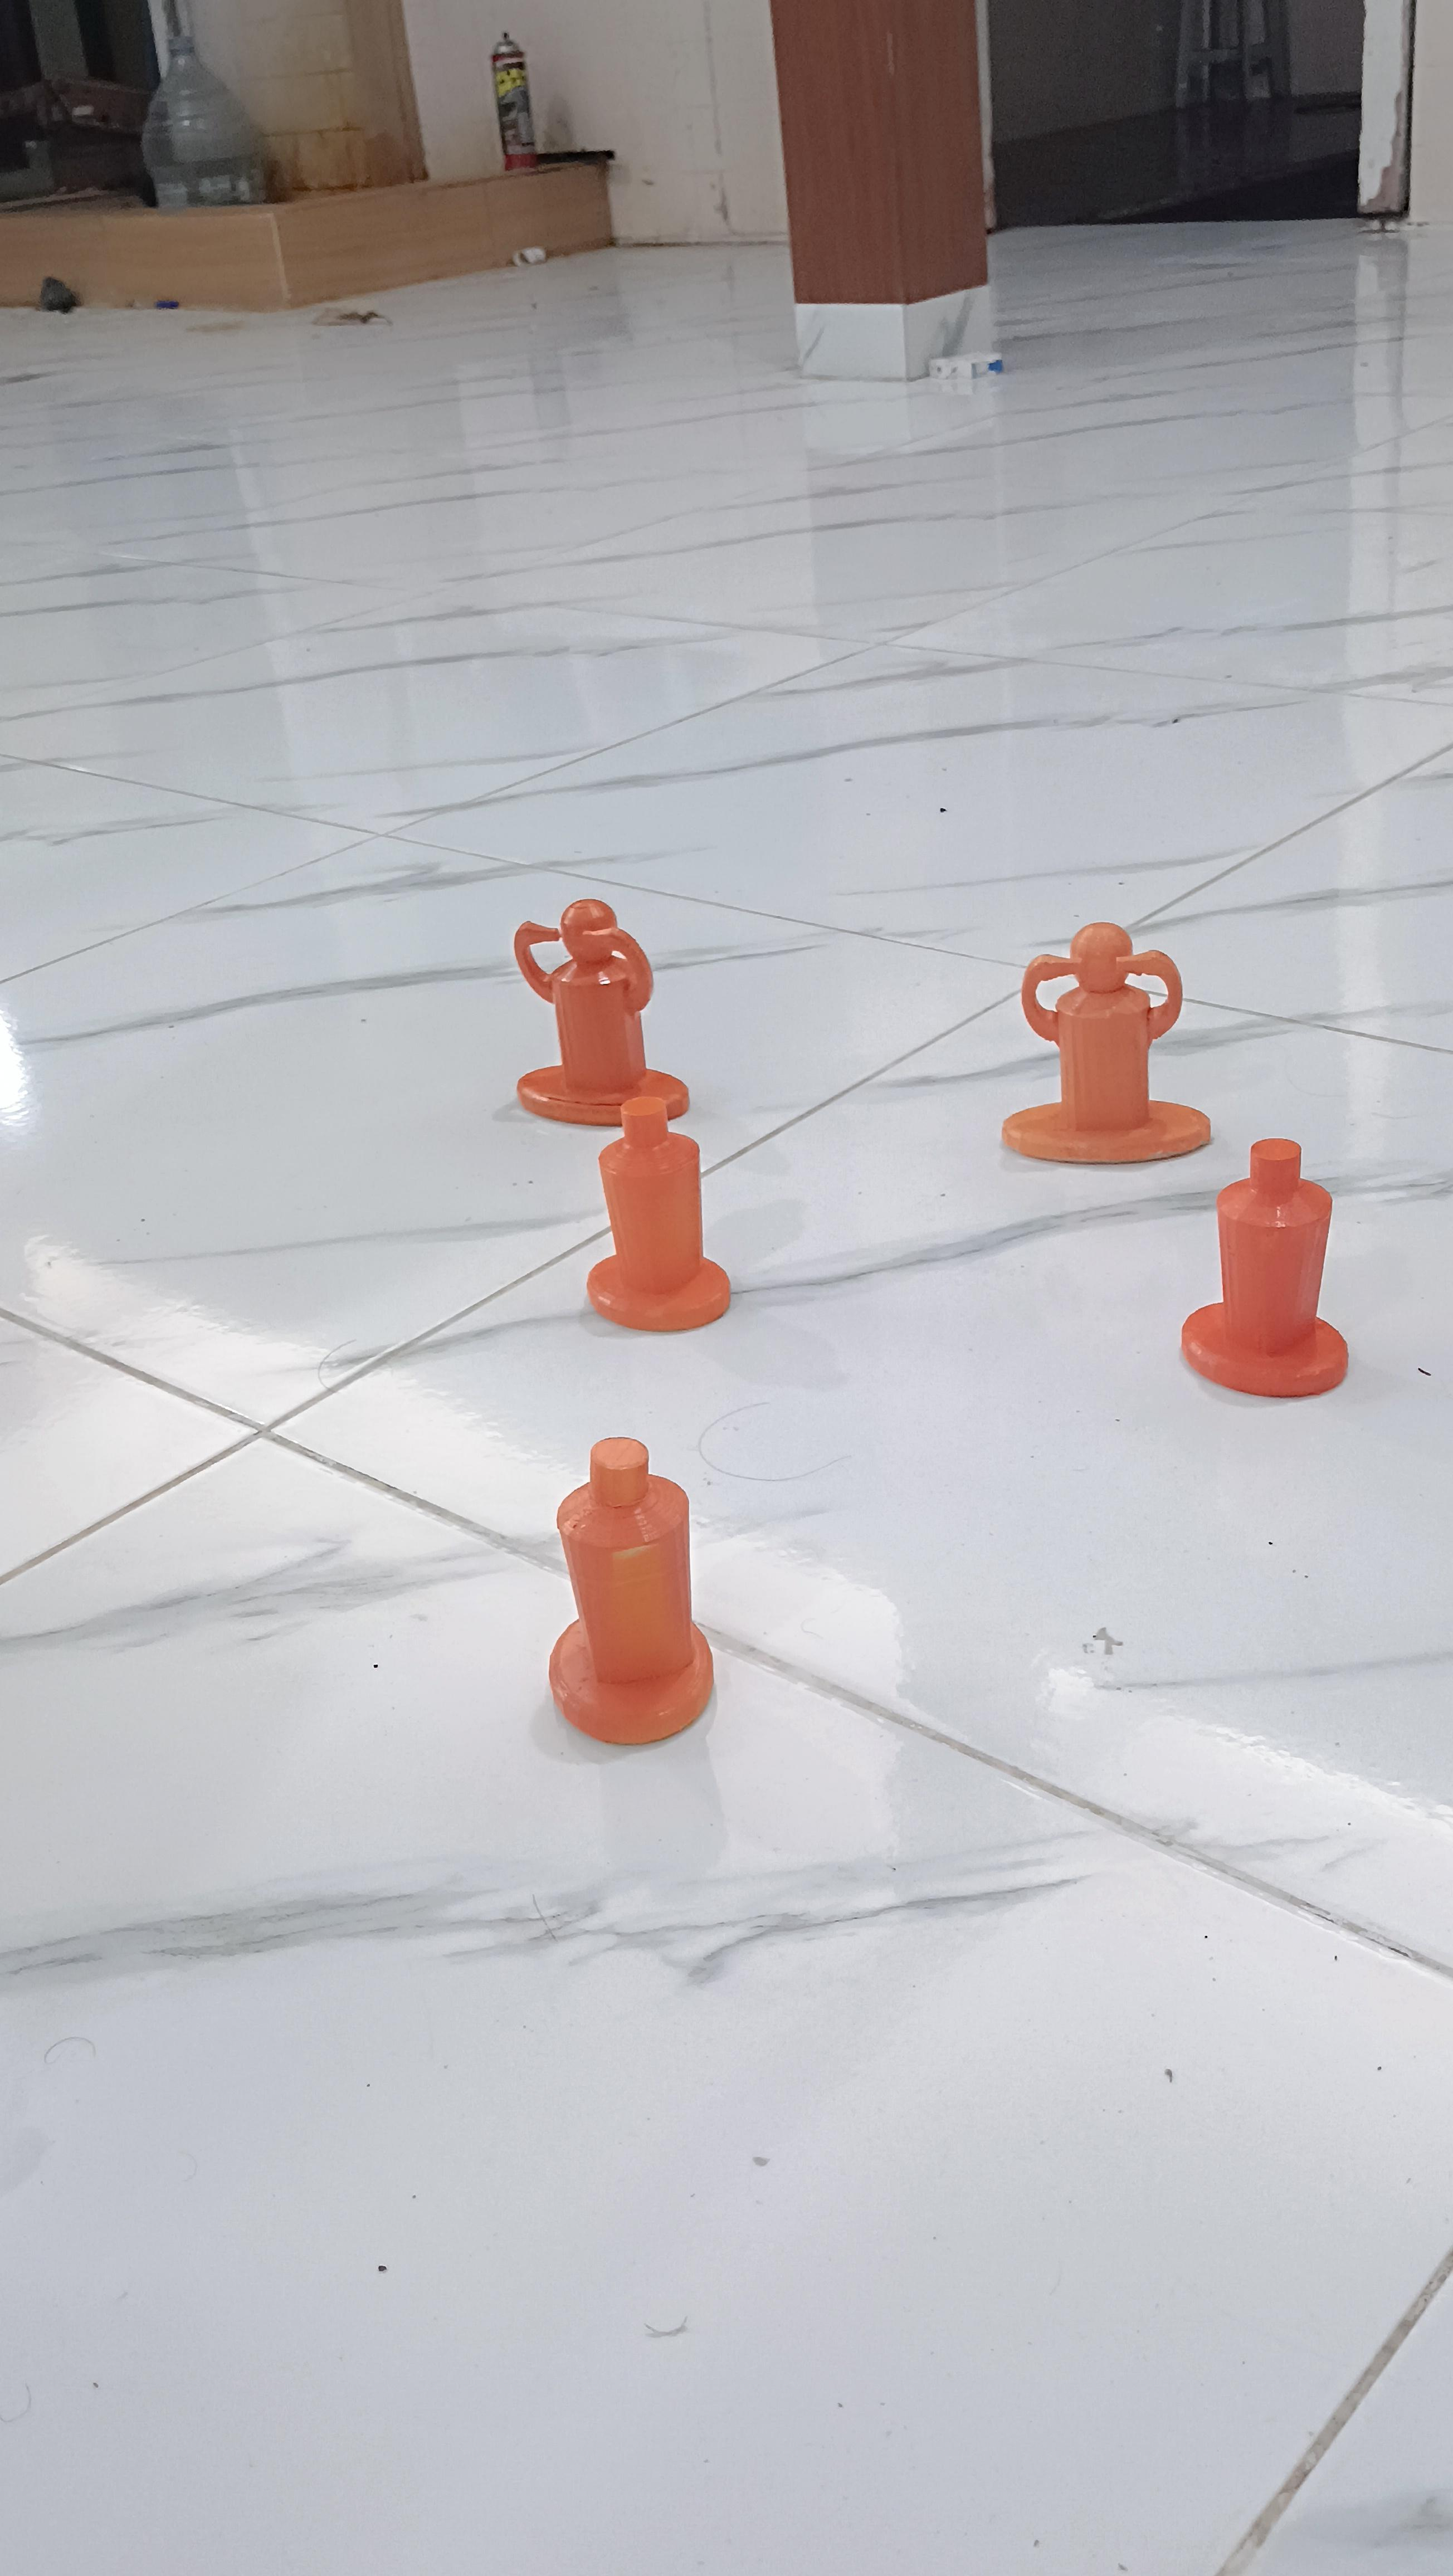dummy: (528, 1415, 742, 1767), (1170, 1134, 1377, 1419), (573, 1099, 758, 1351)
real_person: (961, 880, 1226, 1185), (460, 877, 696, 1115)
